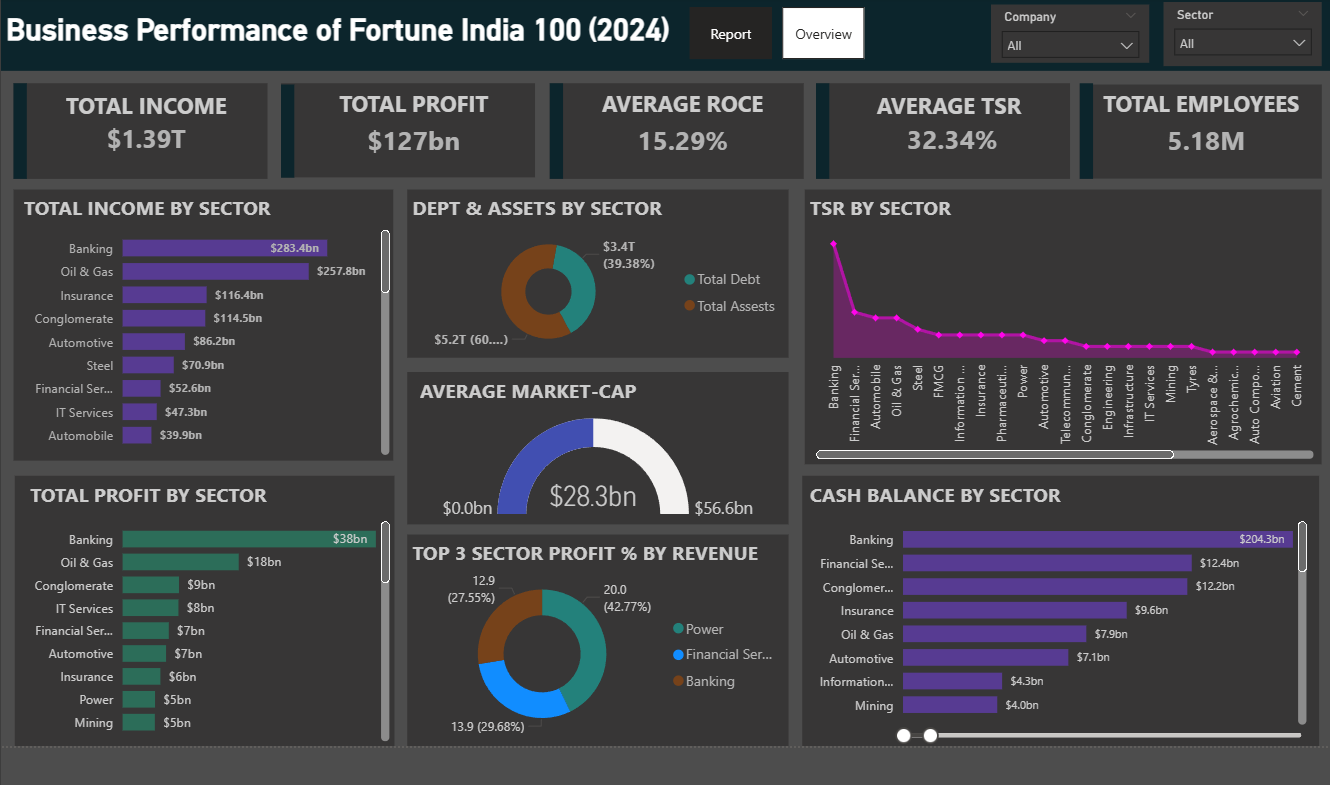

Layout of this report page (visuals, bound fields, positions):
{"tool":"powerbi","page":{"name":"Report","canvas":[1280,720],"ordinal":0},"visuals":[{"type":"shape","box":[0,0,1280.2,70.9],"z":0},{"type":"shape","box":[11.6,82.6,244.2,91.9],"z":1000},{"type":"shape","box":[268.6,82.6,244.2,90.7],"z":2000},{"type":"shape","box":[526.7,82.6,244.2,91.9],"z":3000},{"type":"shape","box":[1036,83.7,232.6,90.7],"z":4000},{"type":"shape","box":[782.6,82.6,244.2,91.9],"z":5000},{"type":"textbox","box":[0,9.3,701.2,50],"z":6000},{"type":"card","fields":{"Values":["Fortune_500_india_2024.Total Income"]},"box":[24.4,117.4,231.4,39.5],"z":7000},{"type":"card","fields":{"Values":["Fortune_500_india_2024.Total Profit"]},"box":[281.4,118.6,231.4,38.4],"z":8000},{"type":"shape","box":[11.6,82.6,12.8,91.9],"z":9000},{"type":"shape","box":[1036,82.6,12.8,91.9],"z":10000},{"type":"shape","box":[782.6,82.6,12.8,91.9],"z":11000},{"type":"shape","box":[526.7,82.6,12.8,91.9],"z":12000},{"type":"shape","box":[268.6,83.7,12.8,89.5],"z":13000},{"type":"textbox","box":[24.4,83.7,231.4,45.3],"z":14000},{"type":"textbox","box":[281.4,82.6,231.4,46.5],"z":15000},{"type":"textbox","box":[539.5,82.6,231.4,46.5],"z":16000},{"type":"textbox","box":[1037.2,82.6,231.4,46.5],"z":17000},{"type":"textbox","box":[795.4,83.7,231.4,46.5],"z":18000},{"type":"card","fields":{"Values":["Fortune_500_india_2024.Average ROCE%"]},"box":[533.7,122.1,244.2,31.4],"z":19000},{"type":"card","fields":{"Values":["Fortune_500_india_2024.Average TSR%"]},"box":[795.4,122.1,238.4,30.2],"z":20000},{"type":"card","fields":{"Values":["Fortune_500_india_2024.Total Employees"]},"box":[1048.8,122.1,219.8,31.4],"z":21000},{"type":"shape","box":[11.6,184.9,365.1,260.5],"z":22000},{"type":"clusteredBarChart","fields":{"Category":["Industry (2).Sector"],"Y":["Sum(Fortune_100_india_2024.Total_Income_USD)"]},"box":[11.6,211.6,366.3,233.7],"z":23000},{"type":"textbox","box":[11.6,184.9,257,34.9],"z":24000},{"type":"slicer","fields":{"Values":["Industry (2).Sector"]},"box":[1116.3,4.7,152.3,61.6],"z":25000},{"type":"shape","box":[390.7,184.9,366.3,161.6],"z":26000},{"type":"donutChart","fields":{"Y":["Sum(Fortune_100_india_2024.TotalDebt USD)","Sum(Fortune_100_india_2024.TotalAssests USD)"]},"box":[391.9,219.8,366.3,126.7],"z":27000},{"type":"textbox","box":[390.7,184.9,265.1,34.9],"z":28000},{"type":"shape","box":[390.7,360.5,366.3,146.5],"z":29000},{"type":"shape","box":[390.7,516.3,366.3,203.5],"z":30000},{"type":"shape","box":[12.8,459.3,365.1,260.5],"z":31000},{"type":"clusteredBarChart","fields":{"Category":["Industry (2).Sector"],"Y":["Fortune_100_india_2024.Total Profit USD"]},"box":[11.6,490.7,366.3,229.1],"z":32000},{"type":"textbox","box":[12.8,459.3,257,34.9],"z":33000},{"type":"shape","box":[772.1,184.9,496.5,264],"z":34000},{"type":"slicer","fields":{"Values":["Industry (2).Company"]},"box":[951.2,7,152.3,55.8],"z":35000},{"type":"stackedAreaChart","fields":{"Y":["Count(Fortune_100_india_2024.TSR%)"],"Category":["Industry (2).Sector"]},"box":[769.8,219.8,496.5,229.1],"z":36000},{"type":"textbox","box":[772.4,185,162.7,34.8],"z":37000},{"type":"gauge","fields":{"Y":["Avg(Fortune_100_india_2024.Avg_marketCap_USD)"]},"box":[390.7,400,366.3,107],"z":38000},{"type":"textbox","box":[397.4,360.1,264.5,34.8],"z":39000},{"type":"shape","box":[769.8,459.3,496.5,260.5],"z":40000},{"type":"clusteredBarChart","fields":{"Category":["Industry (2).Sector"],"Y":["Sum(Fortune_100_india_2024.Cash_balance_USD)"]},"box":[769.8,490.7,489.5,229.1],"z":41000},{"type":"textbox","box":[772.1,459.3,261.6,34.9],"z":42000},{"type":"donutChart","fields":{"Category":["Industry (2).Sector"],"Y":["Avg(Fortune_100_india_2024.Profit % of Revenue)"]},"box":[390.7,543,367.4,176.7],"z":43000},{"type":"textbox","box":[390.7,516.3,353.5,34.9],"z":44000},{"type":"pageNavigator","box":[661.6,9.3,169.8,50],"z":45000}]}

Visuals, with their boxes on the page's 1280x720 design canvas (x1, y1, x2, y2). These are canvas units, not pixel positions in the 1330x785 screenshot, which may show the page scaled, cropped or inside an application window:
shape: 0, 0, 1280, 71
shape: 12, 83, 256, 174
shape: 269, 83, 513, 173
shape: 527, 83, 771, 174
shape: 1036, 84, 1269, 174
shape: 783, 83, 1027, 174
textbox: 0, 9, 701, 59
card - Fortune_500_india_2024.Total Income: 24, 117, 256, 157
card - Fortune_500_india_2024.Total Profit: 281, 119, 513, 157
shape: 12, 83, 24, 174
shape: 1036, 83, 1049, 174
shape: 783, 83, 795, 174
shape: 527, 83, 540, 174
shape: 269, 84, 281, 173
textbox: 24, 84, 256, 129
textbox: 281, 83, 513, 129
textbox: 540, 83, 771, 129
textbox: 1037, 83, 1269, 129
textbox: 795, 84, 1027, 130
card - Fortune_500_india_2024.Average ROCE%: 534, 122, 778, 154
card - Fortune_500_india_2024.Average TSR%: 795, 122, 1034, 152
card - Fortune_500_india_2024.Total Employees: 1049, 122, 1269, 154
shape: 12, 185, 377, 445
clusteredBarChart - Industry (2).Sector x Sum(Fortune_100_india_2024.Total_Income_USD): 12, 212, 378, 445
textbox: 12, 185, 269, 220
slicer - Industry (2).Sector: 1116, 5, 1269, 66
shape: 391, 185, 757, 346
donutChart - Sum(Fortune_100_india_2024.TotalDebt USD) x Sum(Fortune_100_india_2024.TotalAssests USD): 392, 220, 758, 346
textbox: 391, 185, 656, 220
shape: 391, 360, 757, 507
shape: 391, 516, 757, 720
shape: 13, 459, 378, 720
clusteredBarChart - Industry (2).Sector x Fortune_100_india_2024.Total Profit USD: 12, 491, 378, 720
textbox: 13, 459, 270, 494
shape: 772, 185, 1269, 449
slicer - Industry (2).Company: 951, 7, 1104, 63
stackedAreaChart - Count(Fortune_100_india_2024.TSR%) x Industry (2).Sector: 770, 220, 1266, 449
textbox: 772, 185, 935, 220
gauge - Avg(Fortune_100_india_2024.Avg_marketCap_USD): 391, 400, 757, 507
textbox: 397, 360, 662, 395
shape: 770, 459, 1266, 720
clusteredBarChart - Industry (2).Sector x Sum(Fortune_100_india_2024.Cash_balance_USD): 770, 491, 1259, 720
textbox: 772, 459, 1034, 494
donutChart - Industry (2).Sector x Avg(Fortune_100_india_2024.Profit % of Revenue): 391, 543, 758, 720
textbox: 391, 516, 744, 551
pageNavigator: 662, 9, 831, 59
